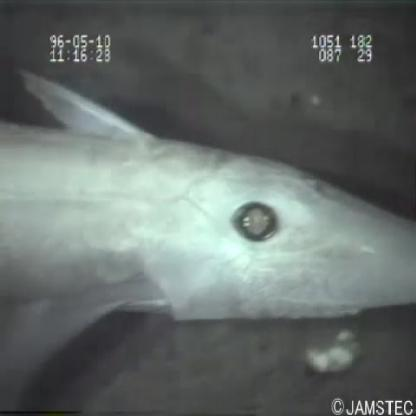Bio: (1, 68, 416, 351)
